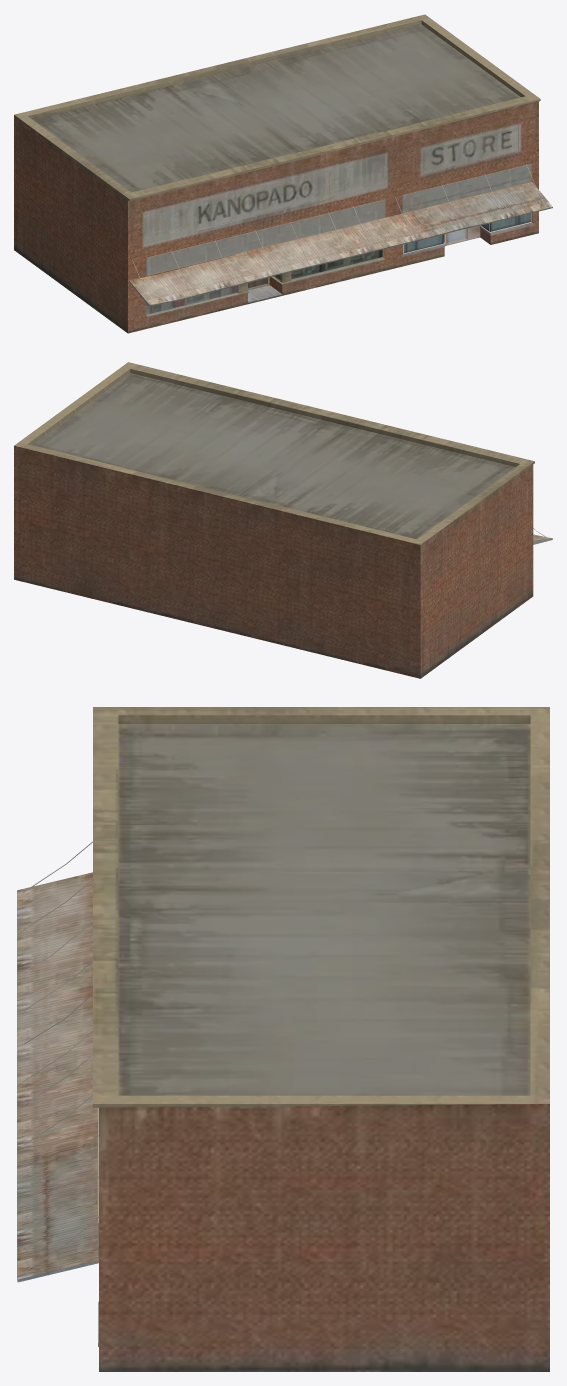
Rendered from lowPolyStreetHouse.glb.
3 views of the same model, one above another, from view 1: azimuth 30°, elevation 25°; view 2: azimuth 150°, elevation 25°; view 3: azimuth 270°, elevation 25° (orthographic). The views are drawn at different scales.
Parts seen in each view (by area): view 1: House_06_House_06_mat_0, House_06_metalroofing_House_06_metalroofing_mat_0, House_06_windows_House_06_window_mat_0; view 2: House_06_House_06_mat_0; view 3: House_06_House_06_mat_0, House_06_metalroofing_House_06_metalroofing_mat_0.
Part boxes in pixels (bbox=[...]): House_06_House_06_mat_0: bbox=[14, 14, 540, 333]; House_06_metalroofing_House_06_metalroofing_mat_0: bbox=[129, 163, 552, 306]; House_06_windows_House_06_window_mat_0: bbox=[146, 214, 530, 314]; House_06_House_06_mat_0: bbox=[14, 362, 534, 678]; House_06_House_06_mat_0: bbox=[93, 707, 549, 1371]; House_06_metalroofing_House_06_metalroofing_mat_0: bbox=[17, 841, 98, 1282].
Size of the model in its own units: 13 by 4.09 by 7.38.
Materials: 3 (3 with a texture image).
